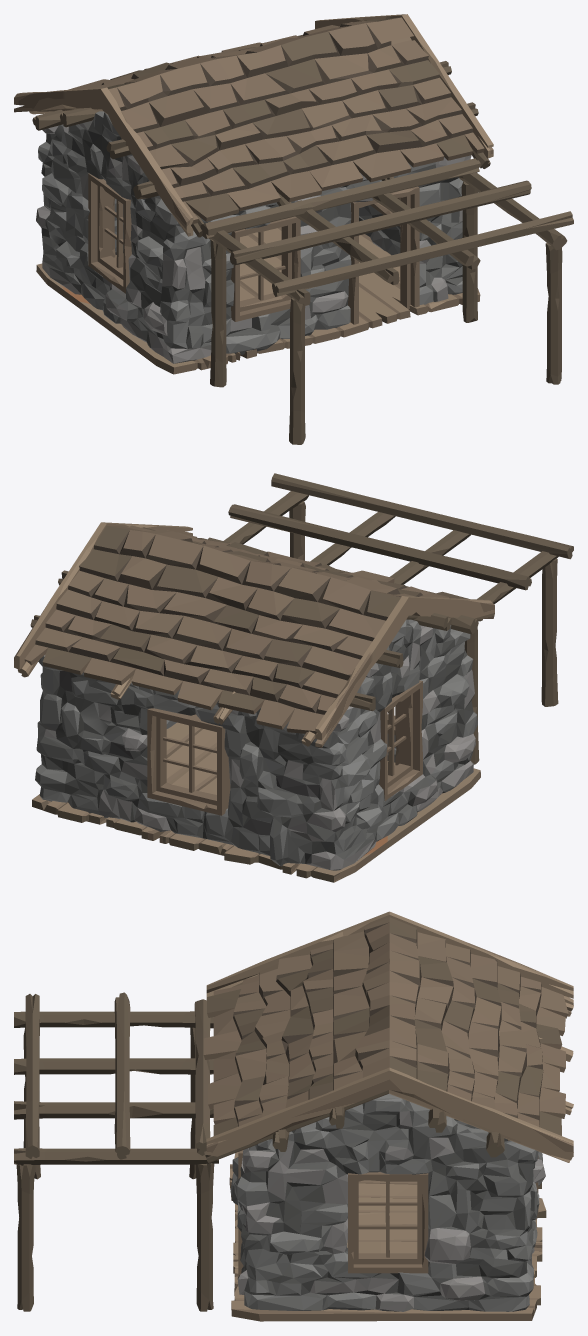
File: SM_Bld_Stone_Cabin_01.fbx
3 views of the same model, one above another, from view 1: azimuth 30°, elevation 25°; view 2: azimuth 150°, elevation 25°; view 3: azimuth 270°, elevation 25° (orthographic). The views are drawn at different scales.
Visible parts, largest first — view 1: SM_Bld_Stone_Cabin_01; view 2: SM_Bld_Stone_Cabin_01; view 3: SM_Bld_Stone_Cabin_01.
Part boxes in pixels (x1,y1,x2,y2): SM_Bld_Stone_Cabin_01: (14, 14, 573, 444); SM_Bld_Stone_Cabin_01: (14, 473, 573, 882); SM_Bld_Stone_Cabin_01: (14, 911, 573, 1321).
Bounding box in the file's own units: 599 × 404 × 811.
